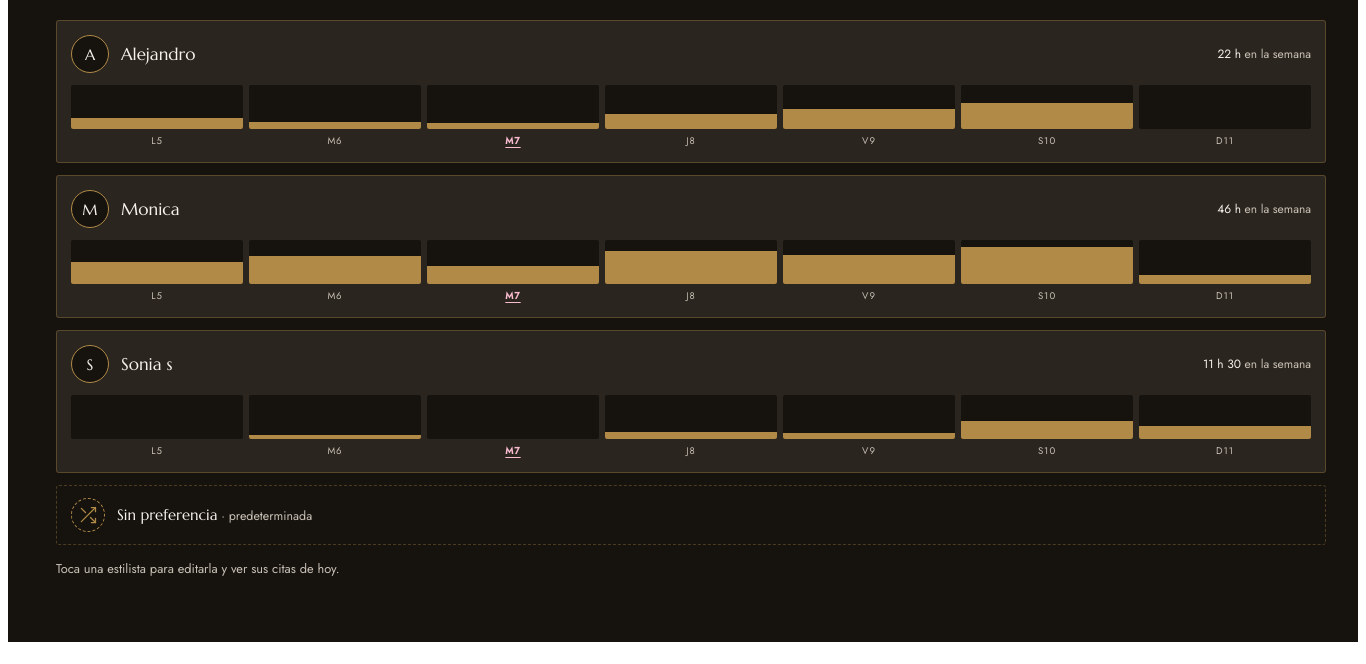
Test: WorkersPage · el panel › en móvil el panel se abre a pantalla completa
What coordinates should you click on to do the following:
click the button with test id "tarjeta-estilista" that starts with "Alejandro"
I would click on:
 (691, 92)
Its box is x1=56 y1=20 x2=1326 y2=163.
(page scrolled)
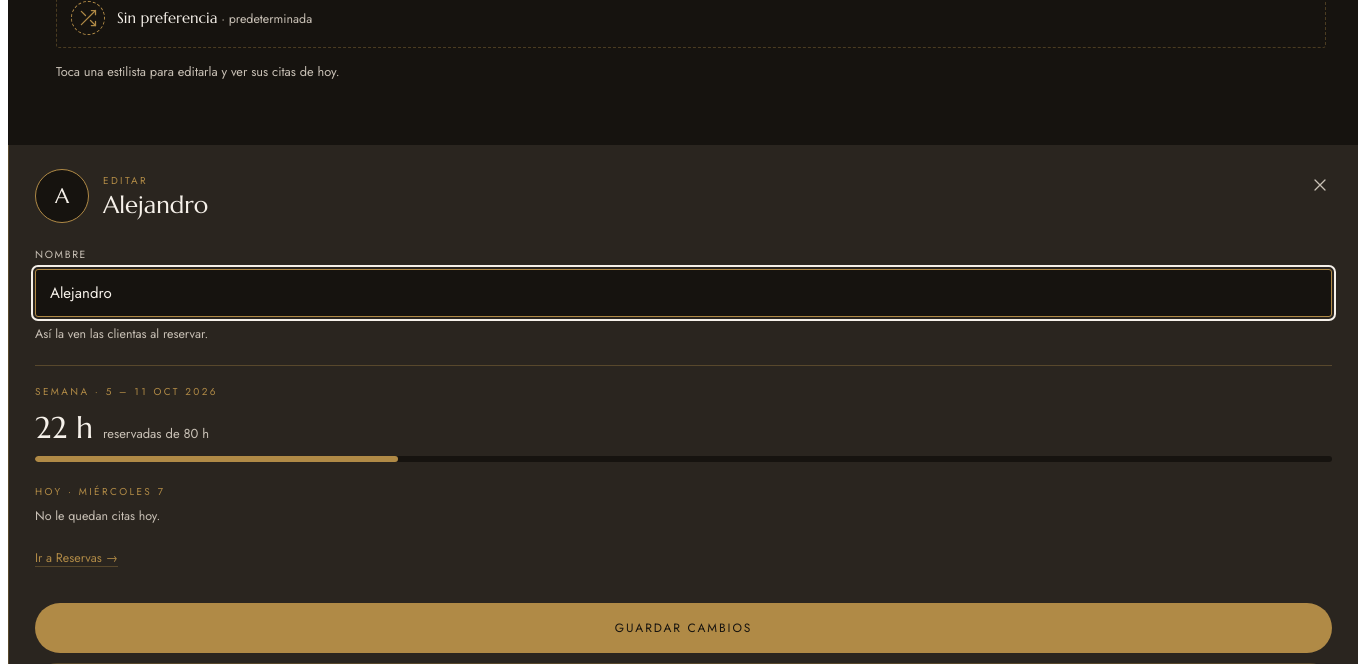
Expected: the heading with test id "panel-titulo" reads "Alejandro", x1=103 y1=190 x2=208 y2=220
